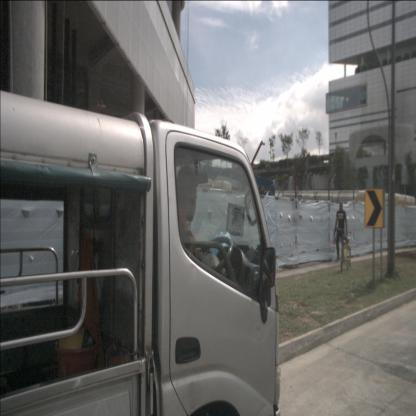human-pedestrian-adult: (332, 199, 348, 263)
vehicle-bicycle: (337, 226, 352, 272)
vehicle-truck: (0, 89, 281, 416)
